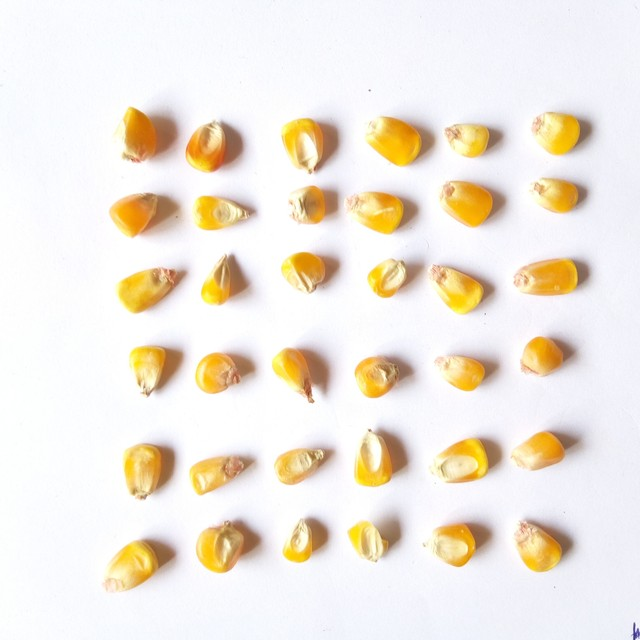maiz: (267, 343, 326, 414), (507, 511, 568, 578), (426, 257, 491, 318), (102, 533, 163, 598), (273, 111, 333, 177), (362, 111, 429, 170), (111, 260, 179, 316), (512, 251, 583, 303), (424, 516, 485, 576), (524, 106, 591, 160), (116, 439, 171, 503), (343, 187, 409, 240), (435, 178, 501, 230), (430, 435, 493, 489), (192, 519, 249, 578), (181, 112, 236, 173), (186, 447, 250, 499), (189, 188, 252, 236), (124, 341, 175, 400), (275, 247, 331, 300), (509, 427, 573, 473), (272, 441, 330, 491), (112, 100, 158, 163), (354, 425, 398, 490), (107, 188, 164, 238), (352, 353, 409, 403), (430, 351, 493, 396), (276, 516, 328, 570), (513, 332, 569, 381), (346, 515, 395, 569), (526, 174, 592, 214), (199, 250, 240, 313), (440, 115, 496, 158), (196, 347, 242, 398), (365, 252, 409, 301), (283, 181, 326, 230)
